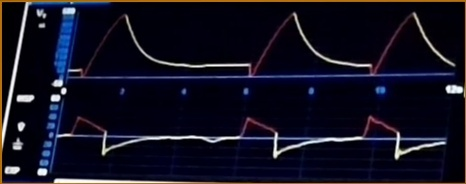Flow: (64, 108, 445, 175)
Leakage Volume: (71, 13, 454, 84)
